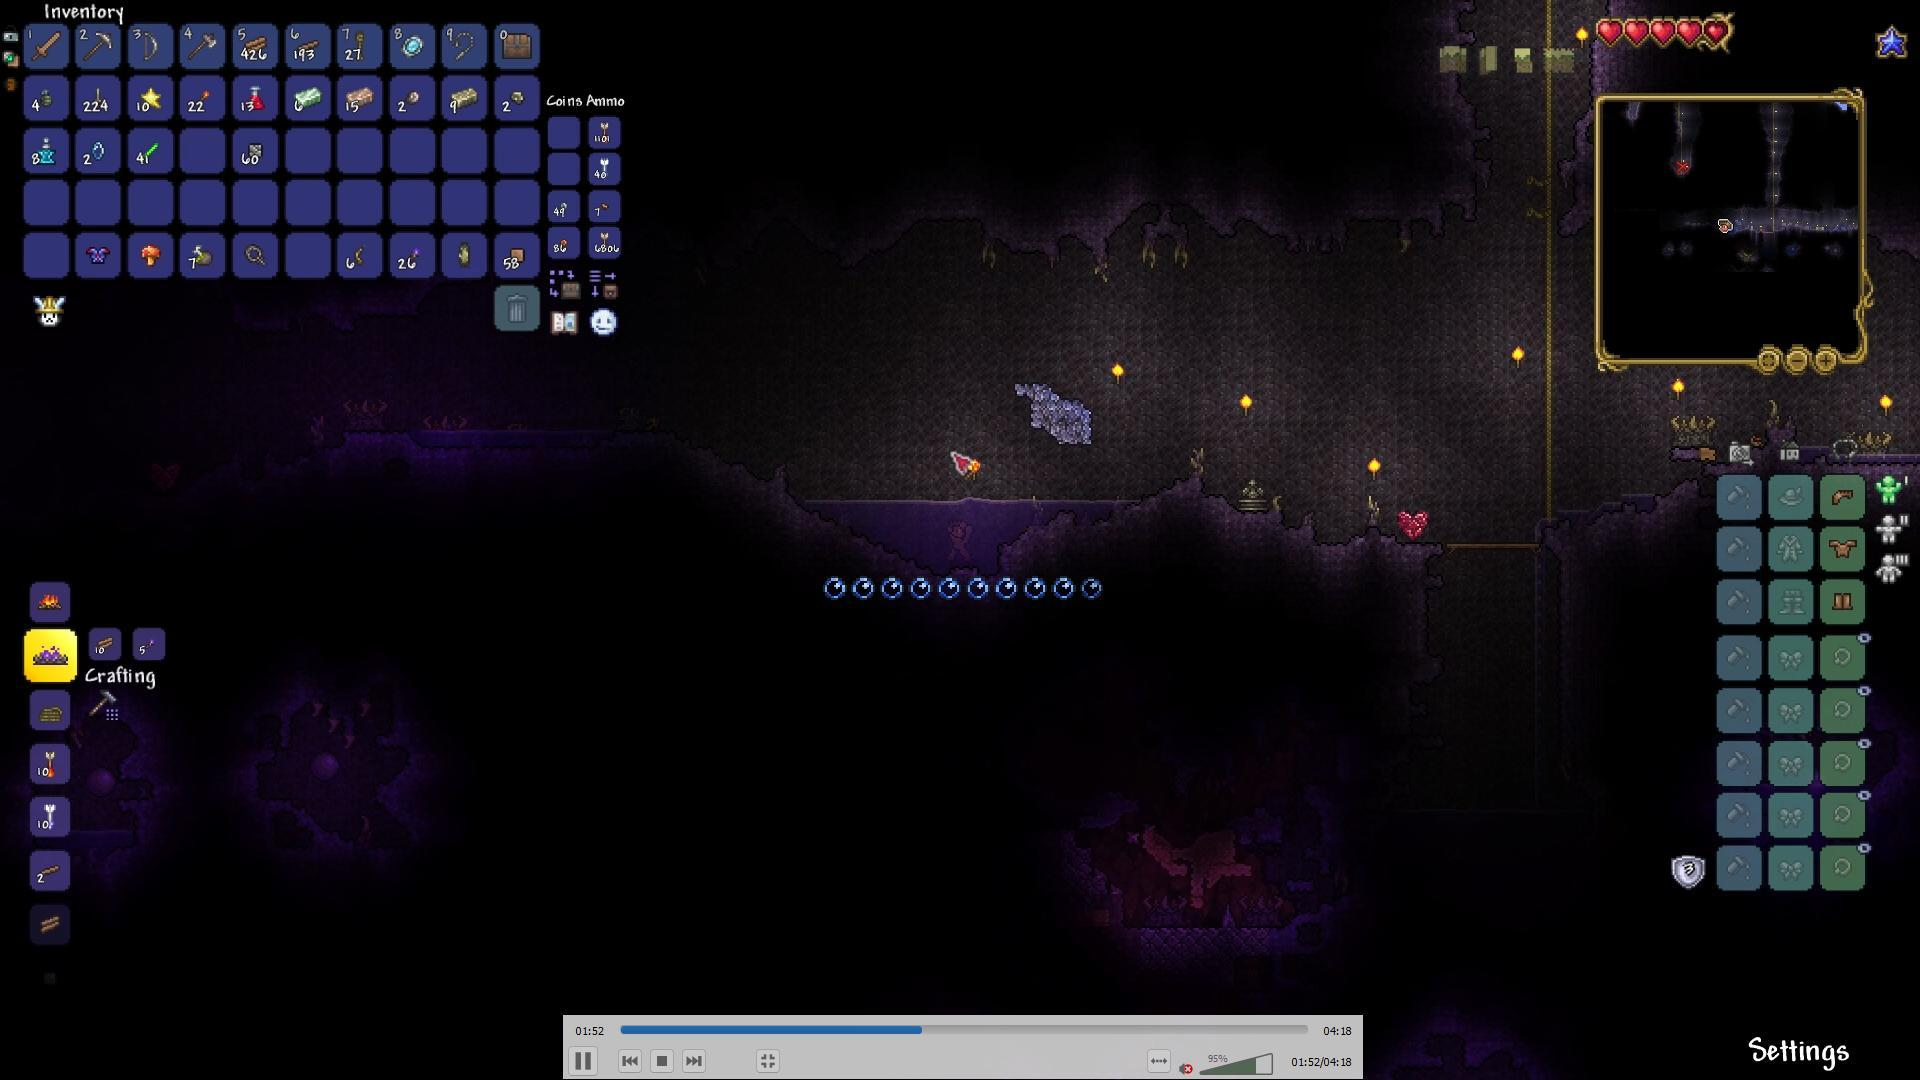glowstick: (140, 137, 160, 162)
lifeC: (1396, 509, 1431, 543)
potion: (245, 80, 265, 112)
recallP: (37, 135, 58, 165)
